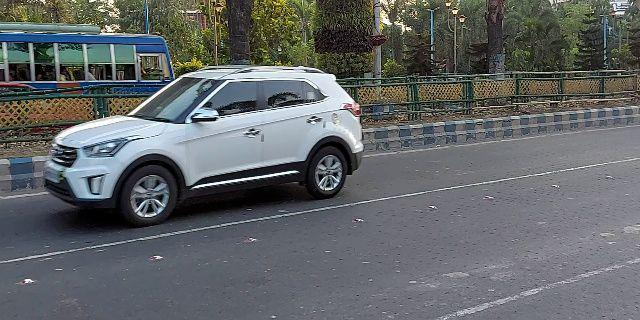Car: (38, 61, 372, 232)
